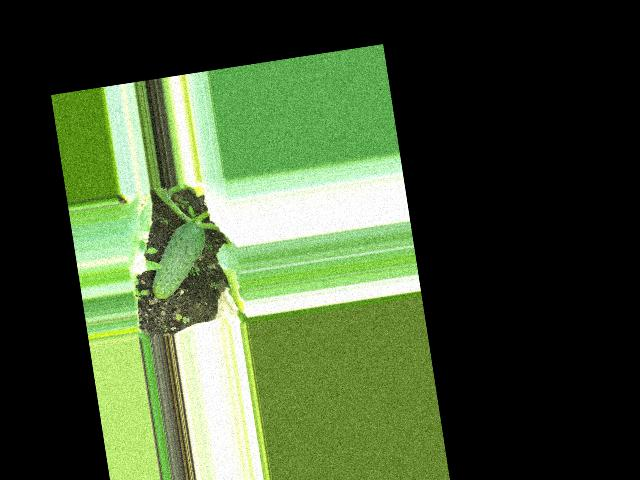cucumber: (143, 219, 214, 300)
